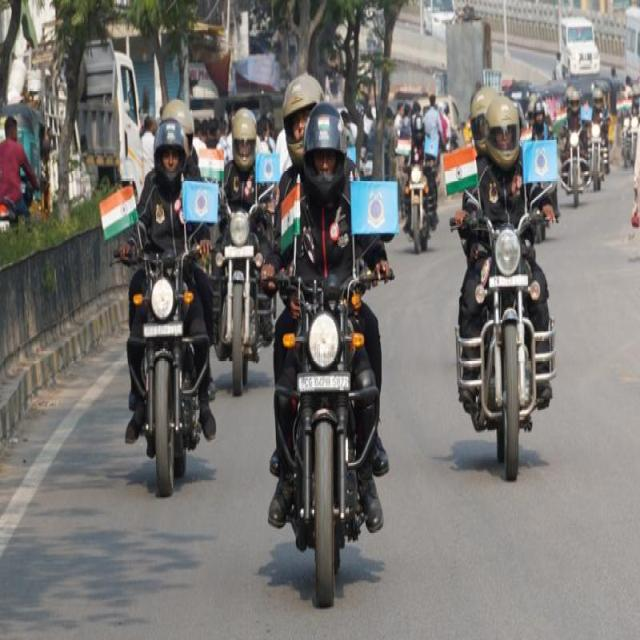motorcycle: (261, 74, 384, 604), (454, 87, 555, 479), (121, 100, 216, 494), (216, 107, 275, 394), (404, 103, 438, 252)
